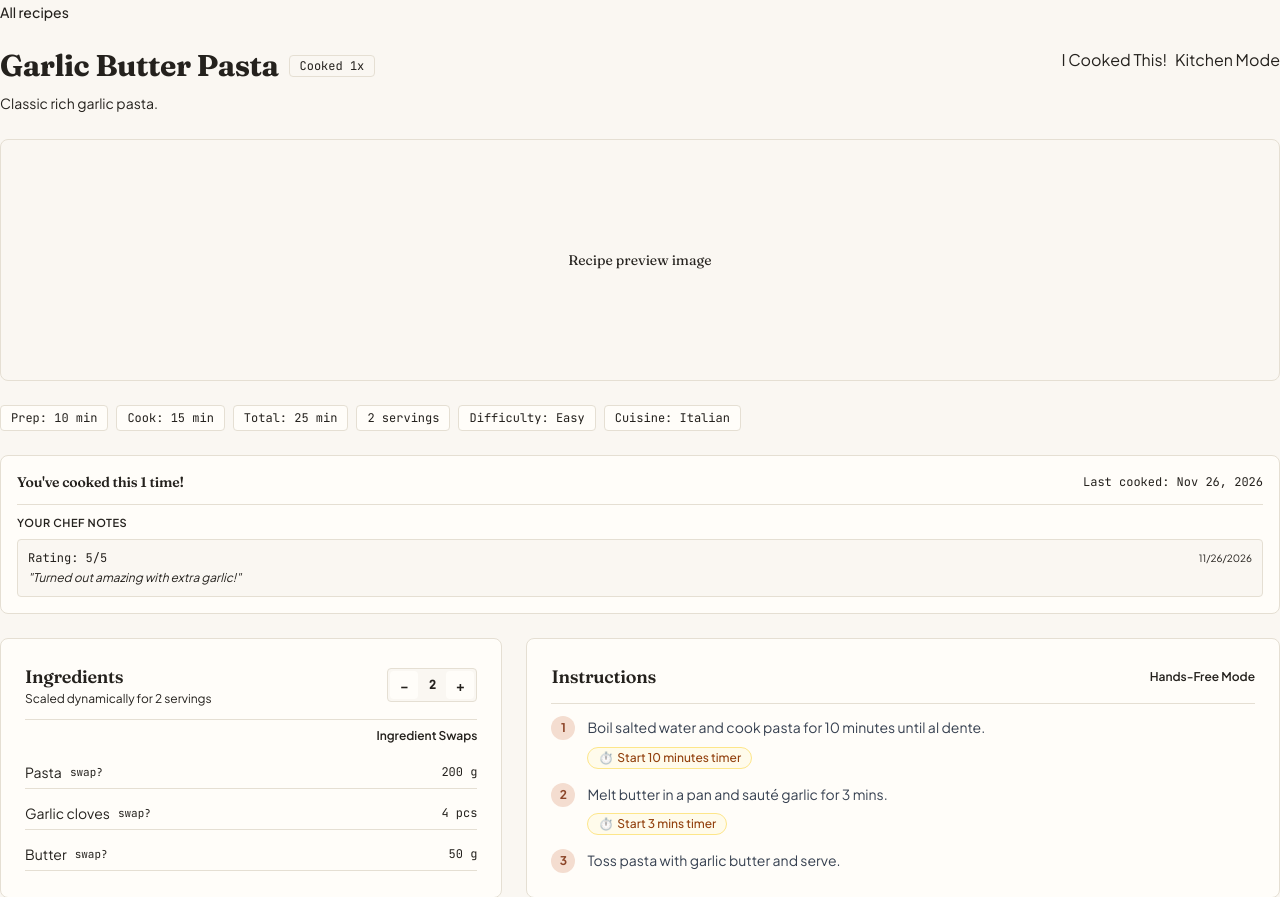
Test: RecipeDetailPage Enhancements › renders interactive in-instruction timer chips and starts timer widget
This screenshot has width=1280, height=897.
Expected: the heading "Garlic Butter Pasta" is shown, [0,48,278,84]
Click the button "⏱️ Start 10 minutes timer" at (670, 758), box [587,746,752,768]
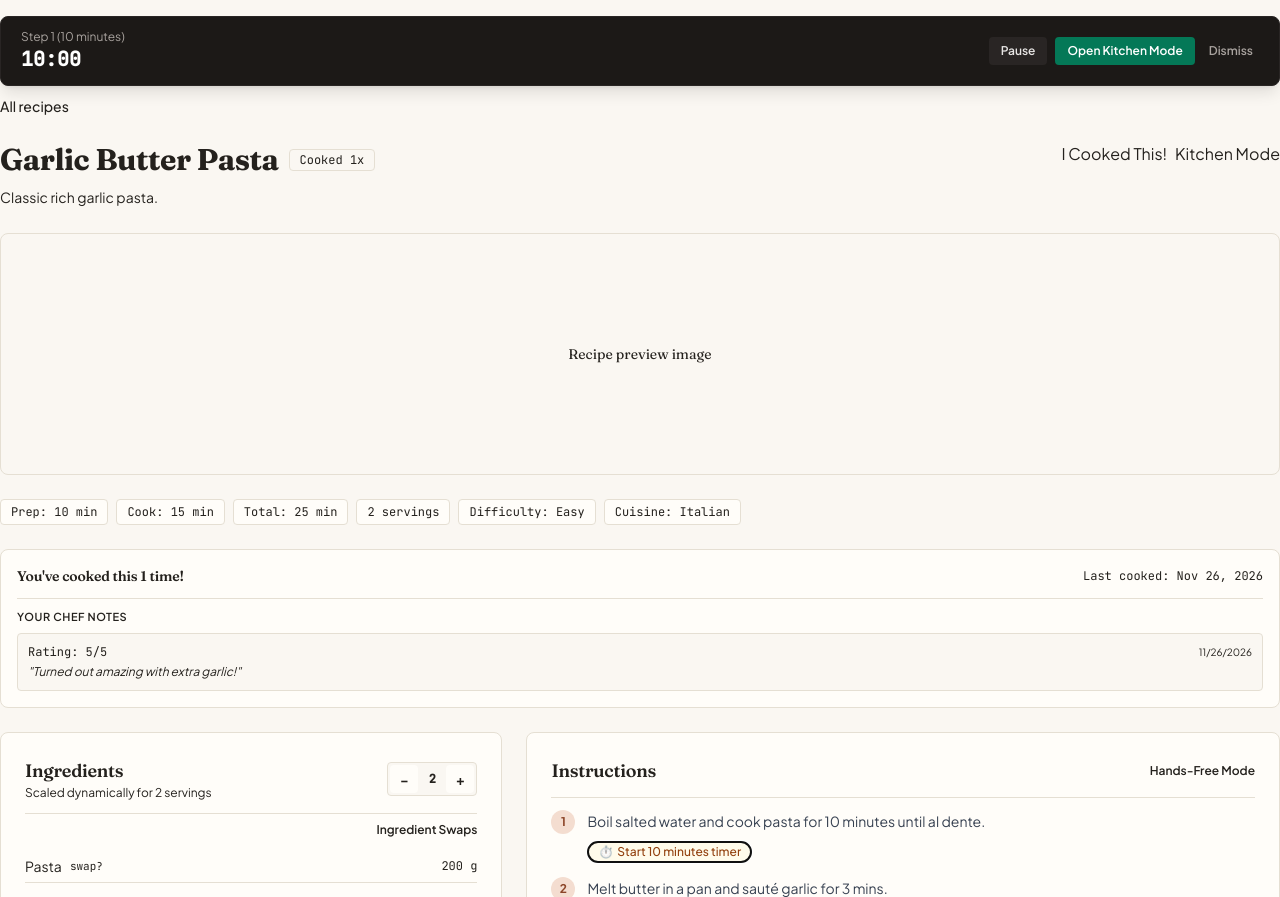
Expected: the text "Step 1 (10 minutes)" is shown, [21,29,125,45]
Expected: the button "Pause" is shown, [989,37,1047,65]
